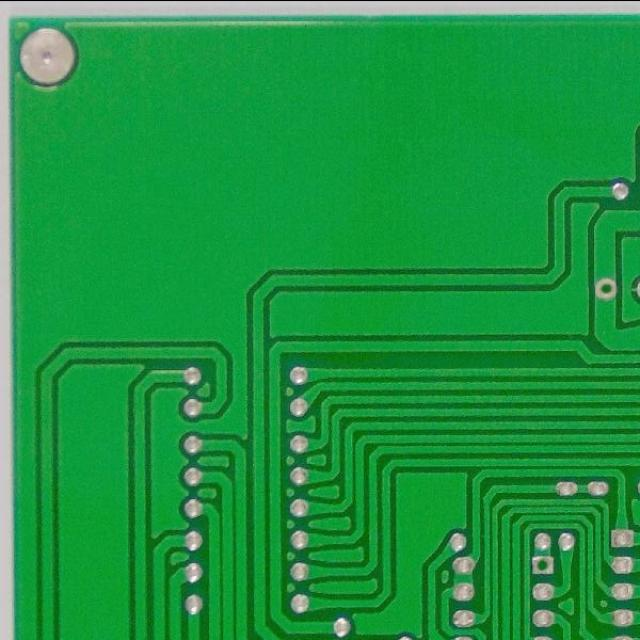Missing_Hole: (593, 275, 619, 302), (529, 551, 556, 576)
